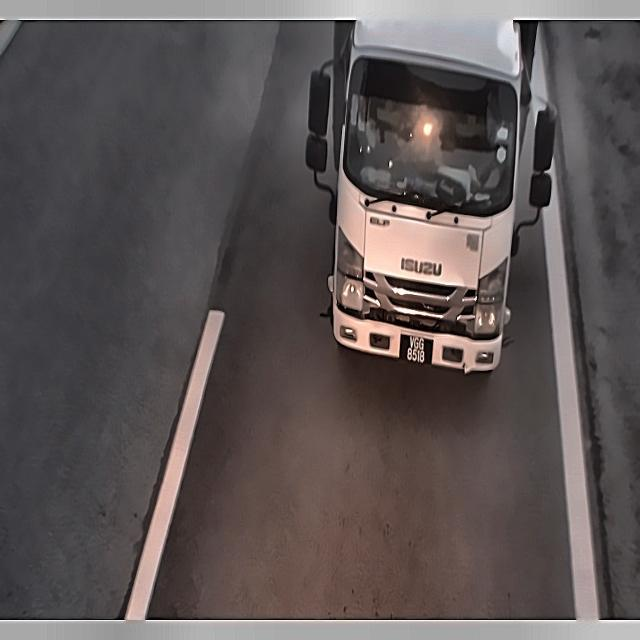car: (393, 333, 438, 374)
